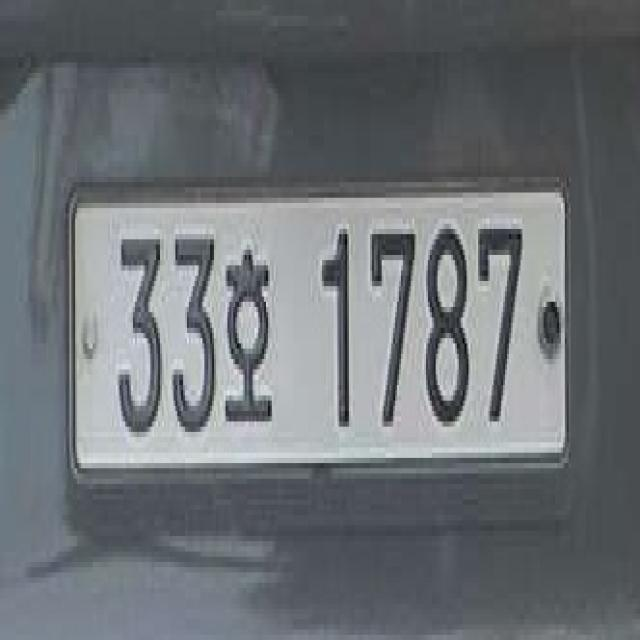1: (320, 224, 351, 426)
3: (173, 224, 218, 437), (119, 224, 164, 432)
7: (474, 219, 526, 437), (370, 224, 418, 426)
8: (422, 218, 472, 426)
ho: (222, 239, 276, 432)
license_plate: (70, 177, 572, 479)
